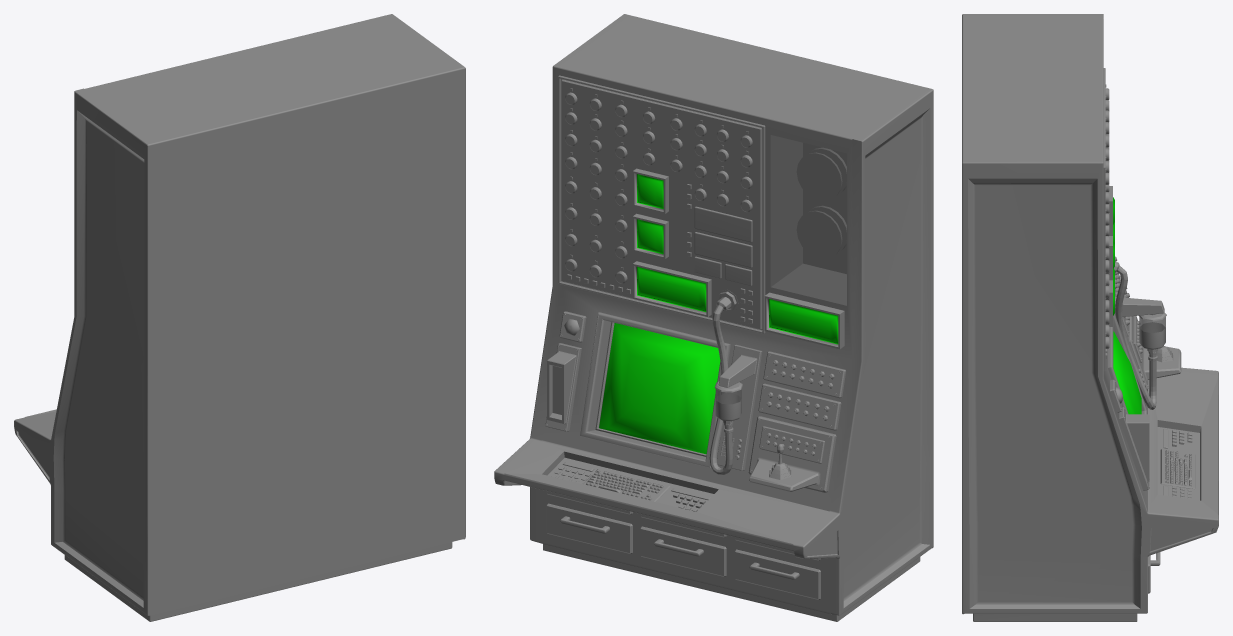
The model's file is LabMachine.fbx.
The picture shows the model from 3 angles, left to right: view 1: azimuth 30°, elevation 25°; view 2: azimuth 150°, elevation 25°; view 3: azimuth 270°, elevation 25°; orthographic projection. The views are drawn at different scales.
Parts seen in each view (by area): view 1: LabMachine_HP; view 2: LabMachine_HP; view 3: LabMachine_HP.
Boxes of the visible parts, x1,y1,x2,y2 form: LabMachine_HP: (14,14,465,621); LabMachine_HP: (494,14,933,621); LabMachine_HP: (962,14,1218,621).
Bounding box in the file's own units: 218 × 316 × 159.
